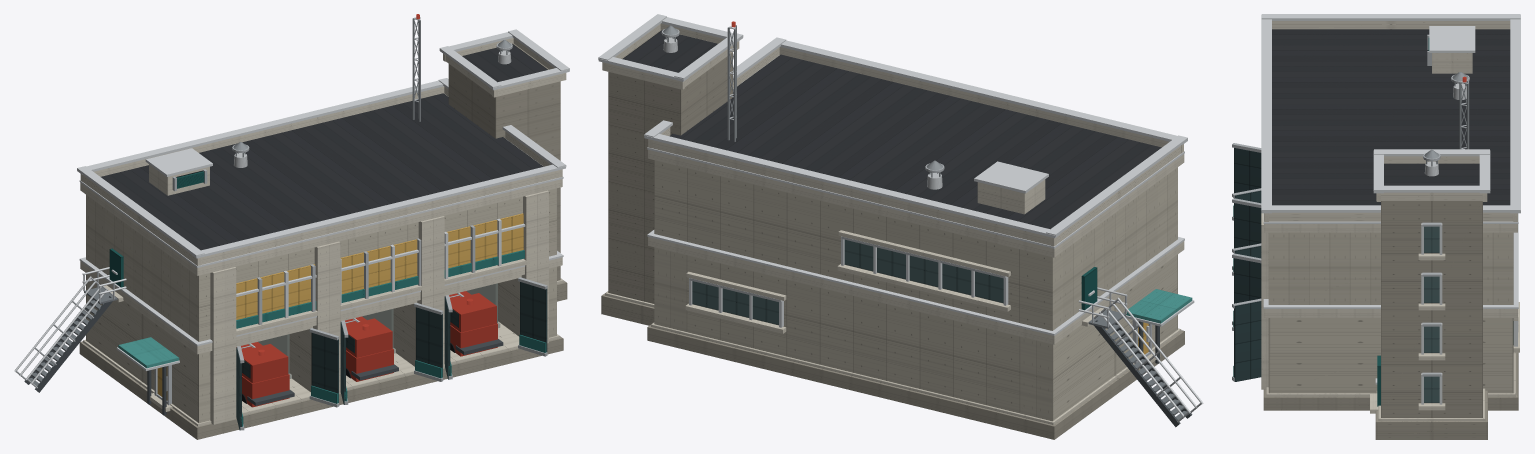
The model's file is civic-atomic-age-community-centre-built.glb.
The picture shows the model from 3 angles, left to right: view 1: azimuth 30°, elevation 25°; view 2: azimuth 150°, elevation 25°; view 3: azimuth 270°, elevation 25°; orthographic projection. The views are drawn at different scales.
Bounding box in the file's own units: 31.78 × 16.49 × 14.15.
Materials: 40 (28 with a texture image).
